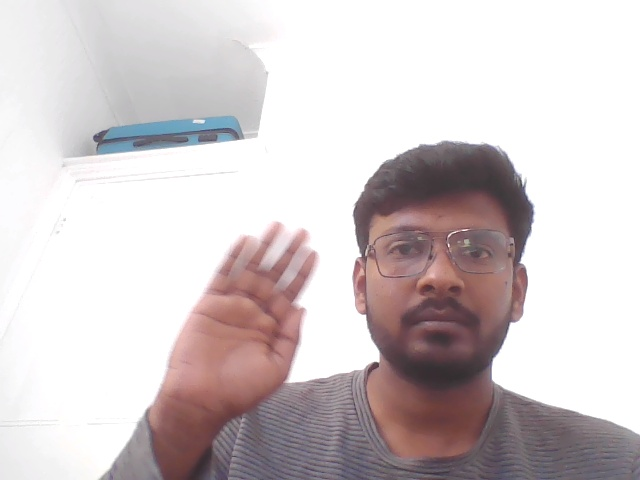Hello: (134, 199, 337, 452)
